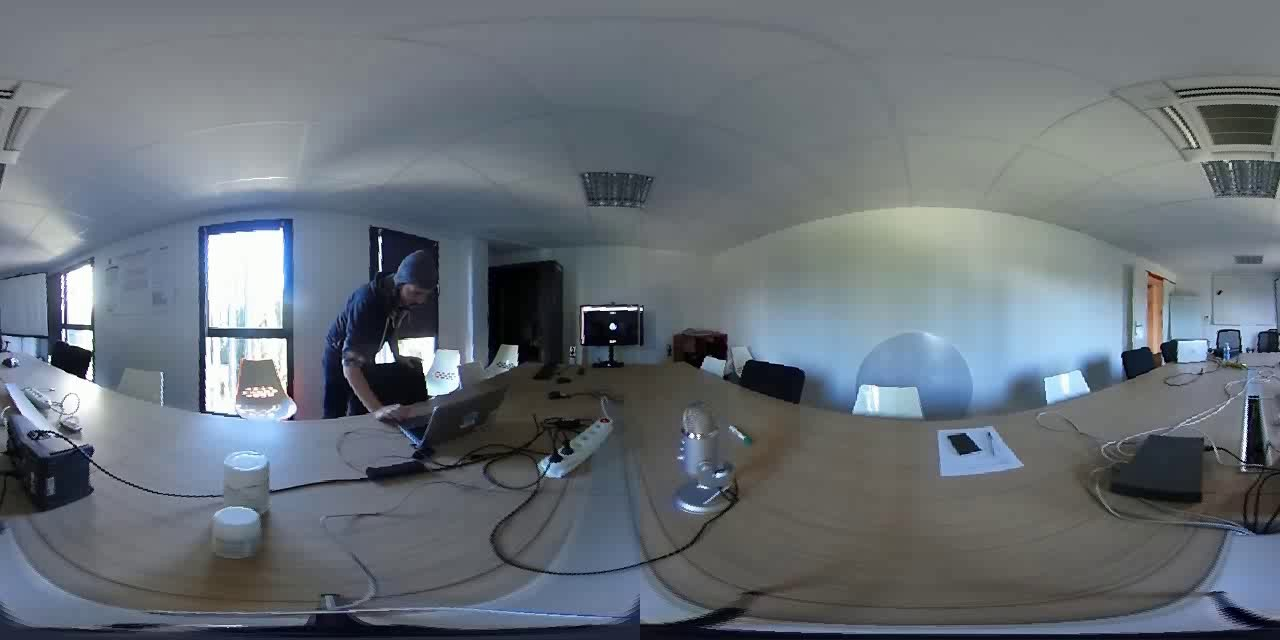person: (320, 229, 455, 404)
